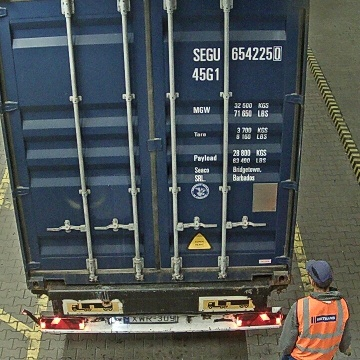serial_id: (193, 46, 281, 60)
